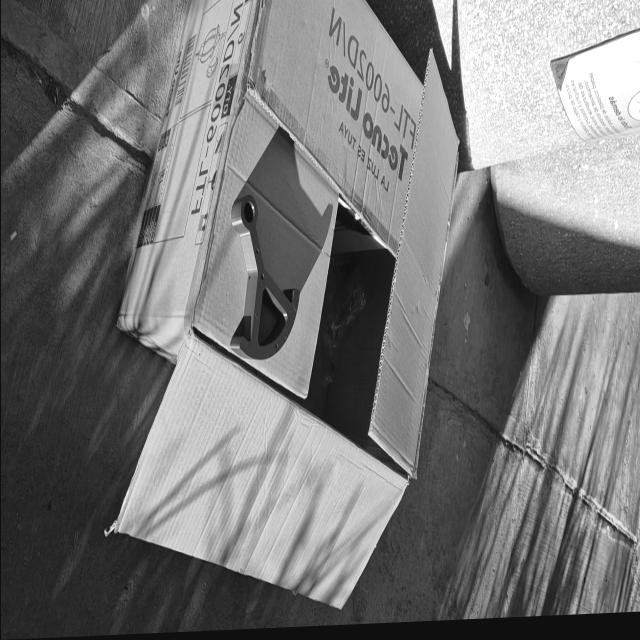haptic: (228, 192, 300, 364)
